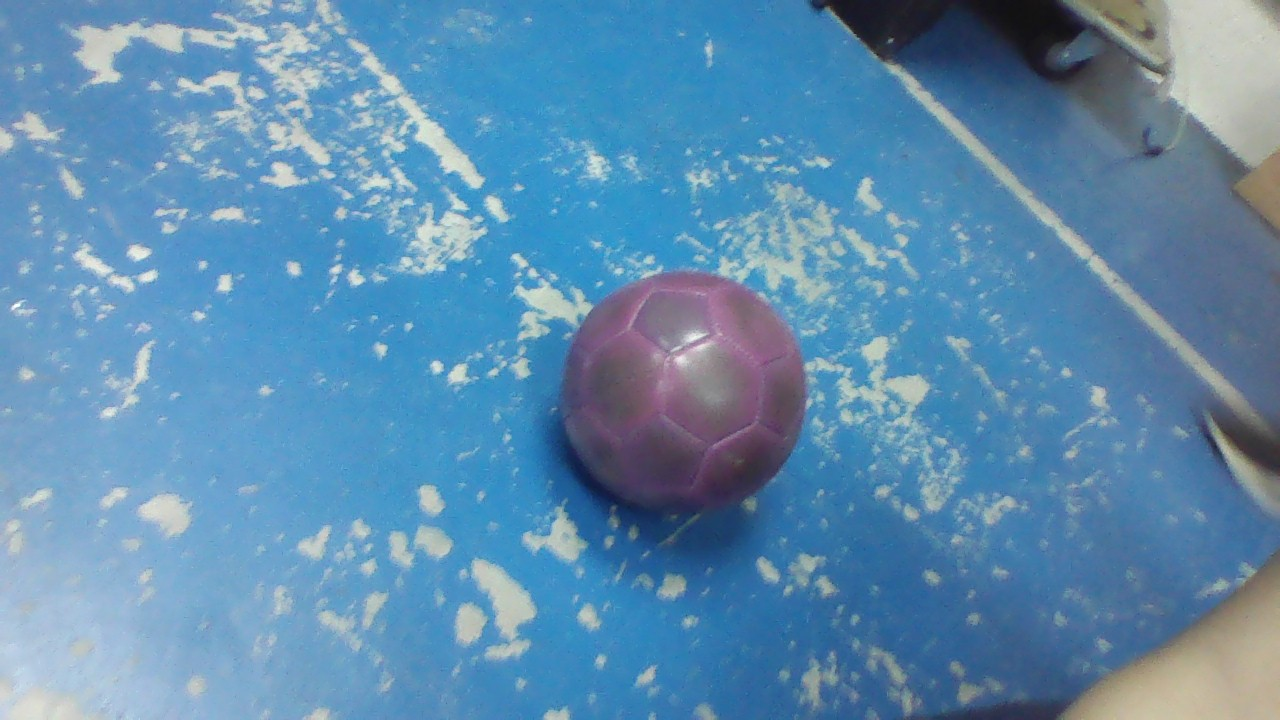Purple: (561, 270, 808, 508)
